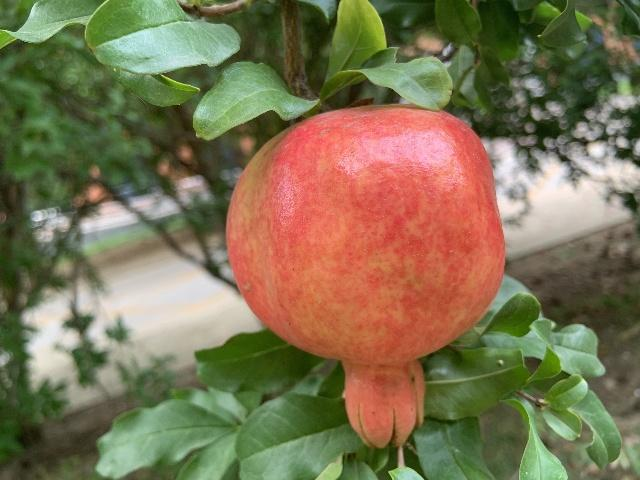ripe: (225, 103, 506, 450)
